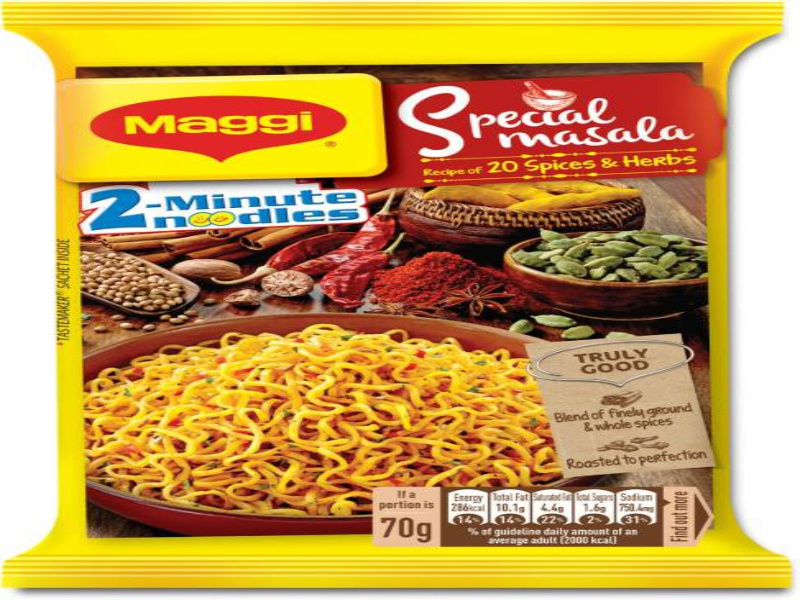maggi: (3, 6, 794, 597)
